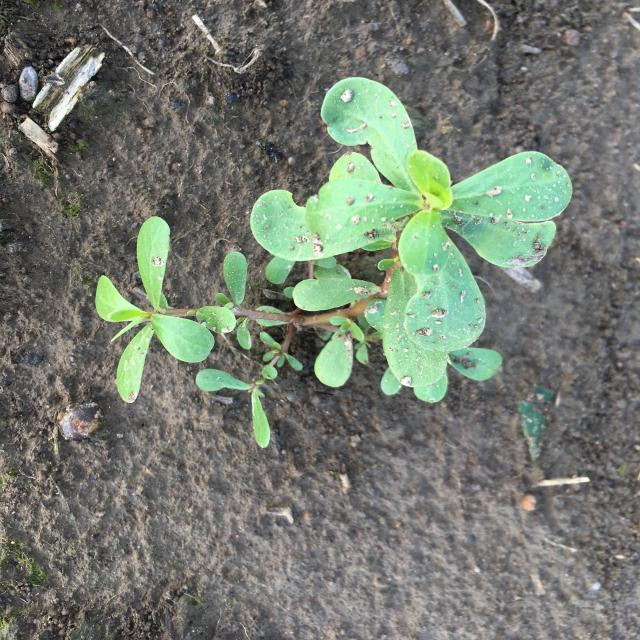Purslane: (95, 77, 572, 448)
